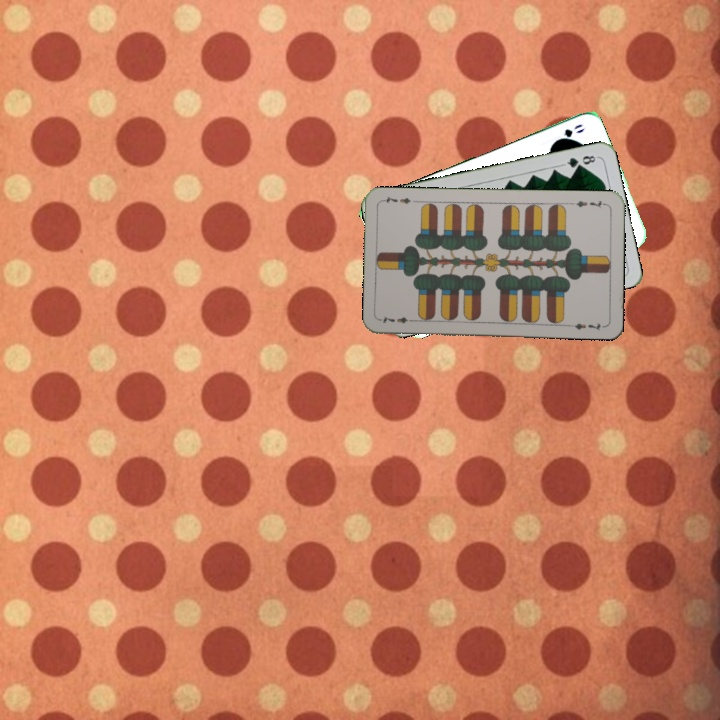E7: (568, 196, 608, 211), (378, 312, 418, 326)
G8: (560, 151, 600, 170)
GO: (549, 120, 587, 146)
